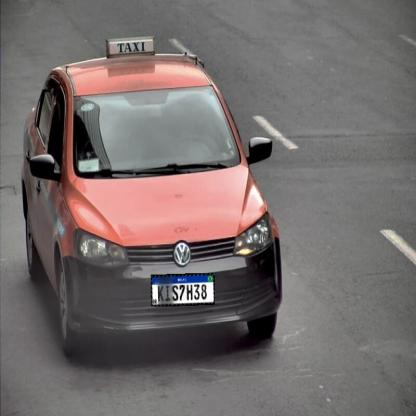PlacaM: (151, 273, 215, 307)
